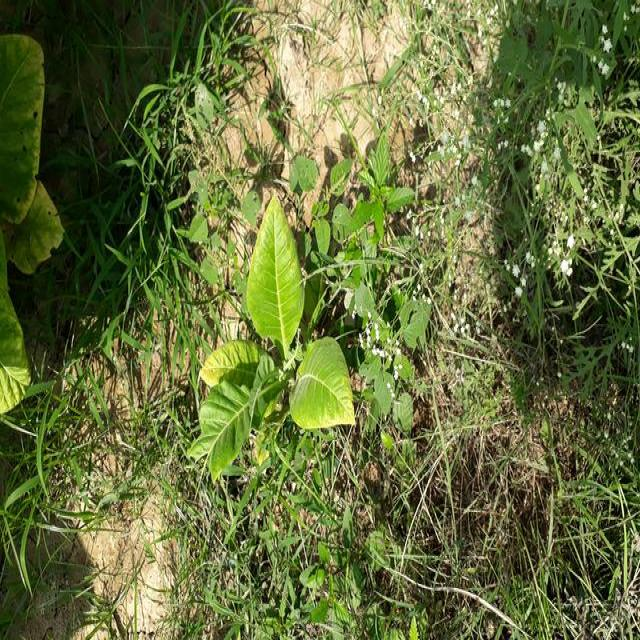crop: (192, 197, 374, 473)
